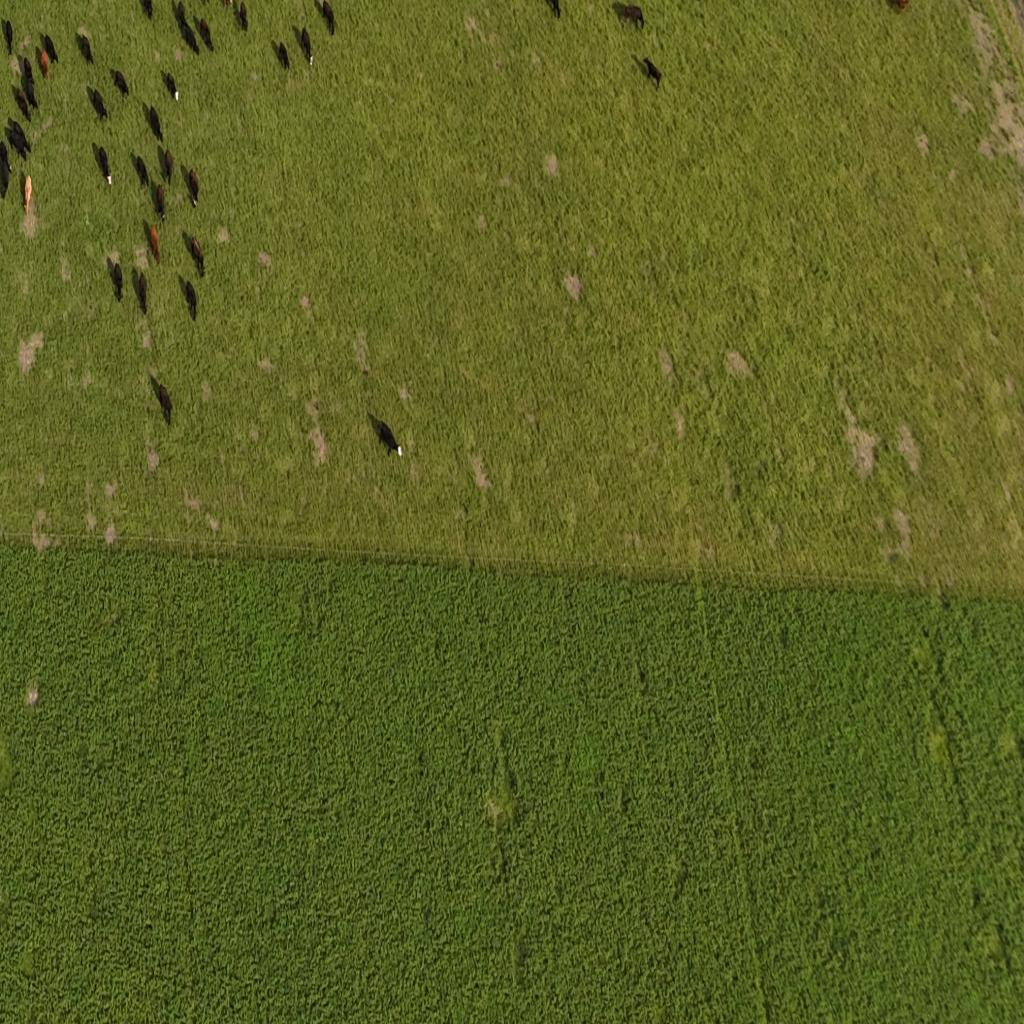cow: (374, 424, 402, 458), (93, 142, 112, 188), (618, 4, 645, 30), (89, 87, 108, 123), (642, 56, 662, 90), (157, 382, 172, 426), (0, 142, 12, 196), (76, 30, 94, 65), (190, 236, 205, 278), (181, 21, 199, 54), (7, 131, 26, 162), (24, 173, 36, 222), (14, 122, 32, 154), (43, 32, 59, 67), (14, 86, 30, 121), (185, 278, 197, 323), (148, 104, 162, 142), (135, 154, 149, 192), (111, 69, 129, 98), (321, 0, 335, 36), (24, 76, 38, 112), (198, 17, 213, 50), (112, 261, 123, 305), (300, 25, 312, 65), (187, 167, 199, 207), (149, 223, 160, 265), (276, 40, 290, 72), (138, 271, 148, 313), (541, 0, 561, 20), (165, 71, 178, 101), (23, 55, 36, 85), (156, 183, 166, 222), (3, 17, 13, 55), (164, 148, 174, 184), (40, 48, 50, 80), (140, 0, 153, 22), (239, 1, 248, 32), (176, 0, 186, 24)
